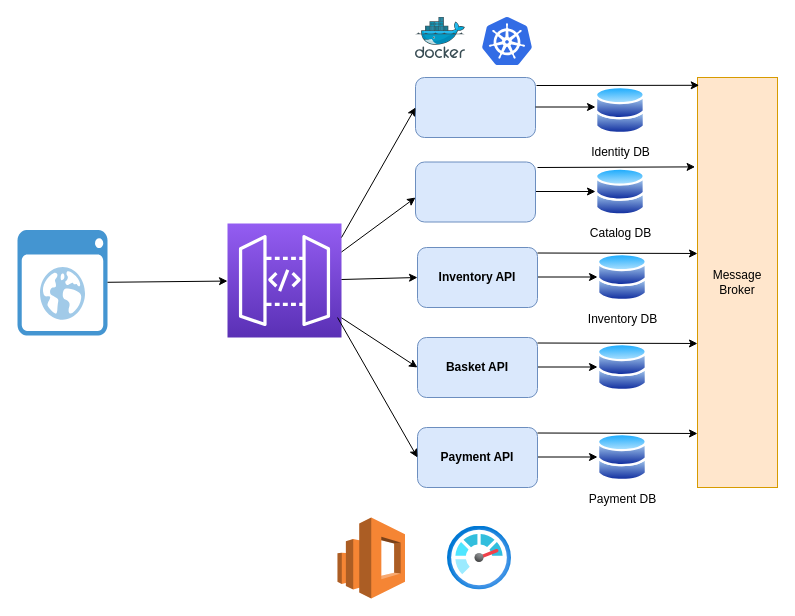
This 795x616 diagram has some shape labels left out. Each missing label, with the centre of its shape:
"API Gateway" belongs at (284,280).
"Basket DB" belongs at (622,367).
"Catalog API" belongs at (475,191).
"Identity Server" belongs at (475,107).
